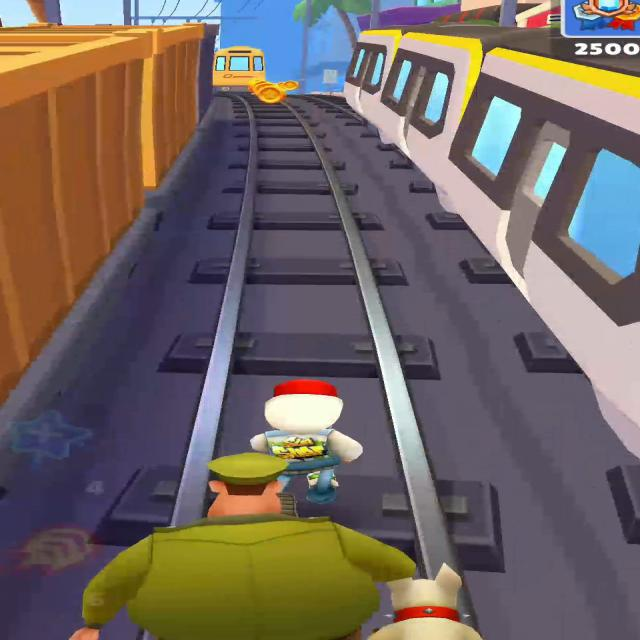police: (70, 452, 479, 640)
train: (339, 23, 639, 458), (0, 24, 215, 402), (212, 47, 265, 93)
